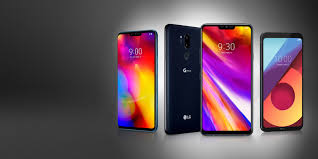lg: (162, 21, 206, 138)
